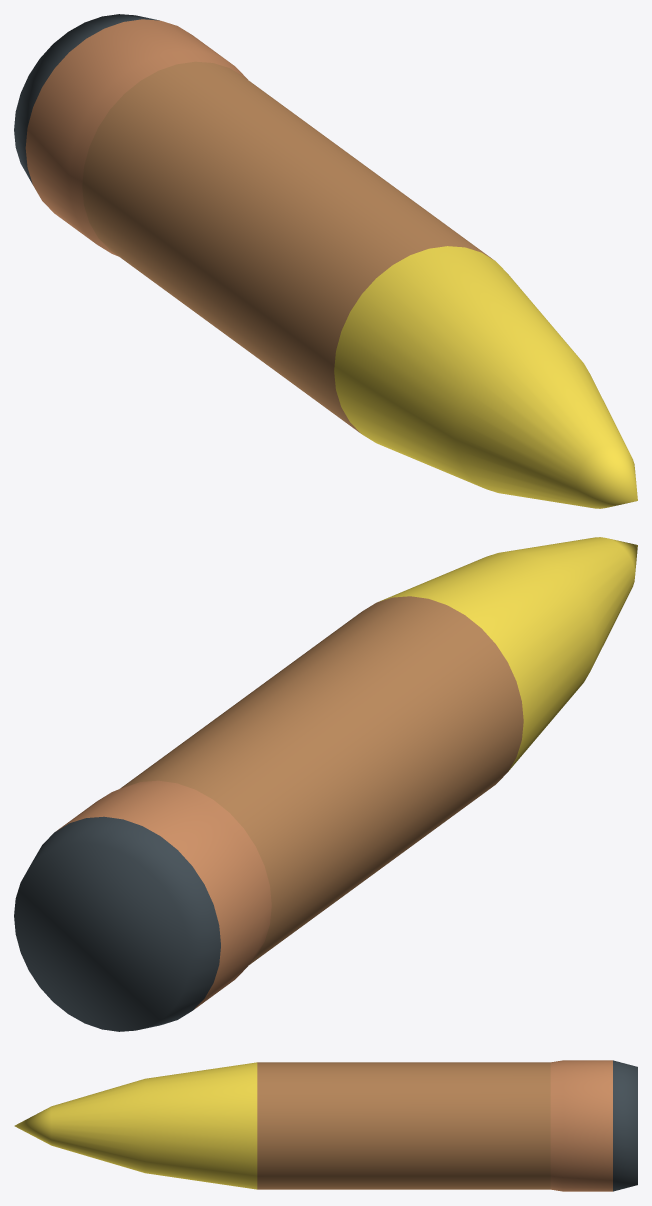
File: siege_400_projectile_display.glb
3 renders of one model, top to bottom at view 1: azimuth 30°, elevation 25°; view 2: azimuth 150°, elevation 25°; view 3: azimuth 270°, elevation 25°, orthographic. The views are drawn at different scales.
Visible parts, largest first — view 1: AMMO_MESH.053; view 2: AMMO_MESH.053; view 3: AMMO_MESH.053.
Boxes of the visible parts, x1,y1,x2,y2 form: AMMO_MESH.053: (14,14,637,508); AMMO_MESH.053: (14,537,637,1031); AMMO_MESH.053: (14,1060,637,1191).
Bounding box in the file's own units: 0.4 × 0.4 × 1.9.
